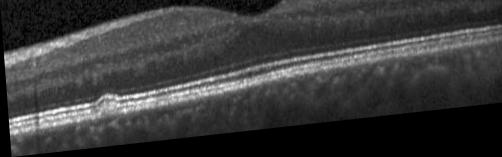retinal_drusen: (96, 102, 117, 119)
